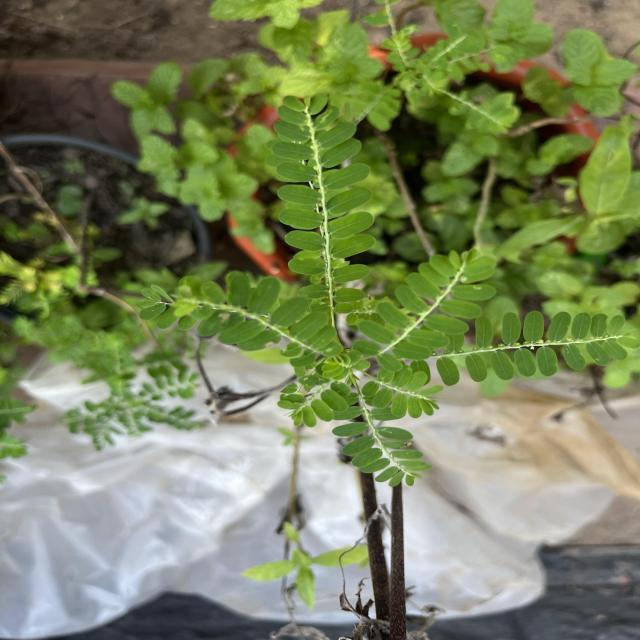Phyllanthus niruri: (263, 90, 380, 330), (349, 246, 500, 374), (407, 310, 640, 389), (178, 270, 344, 368), (326, 388, 434, 489)
